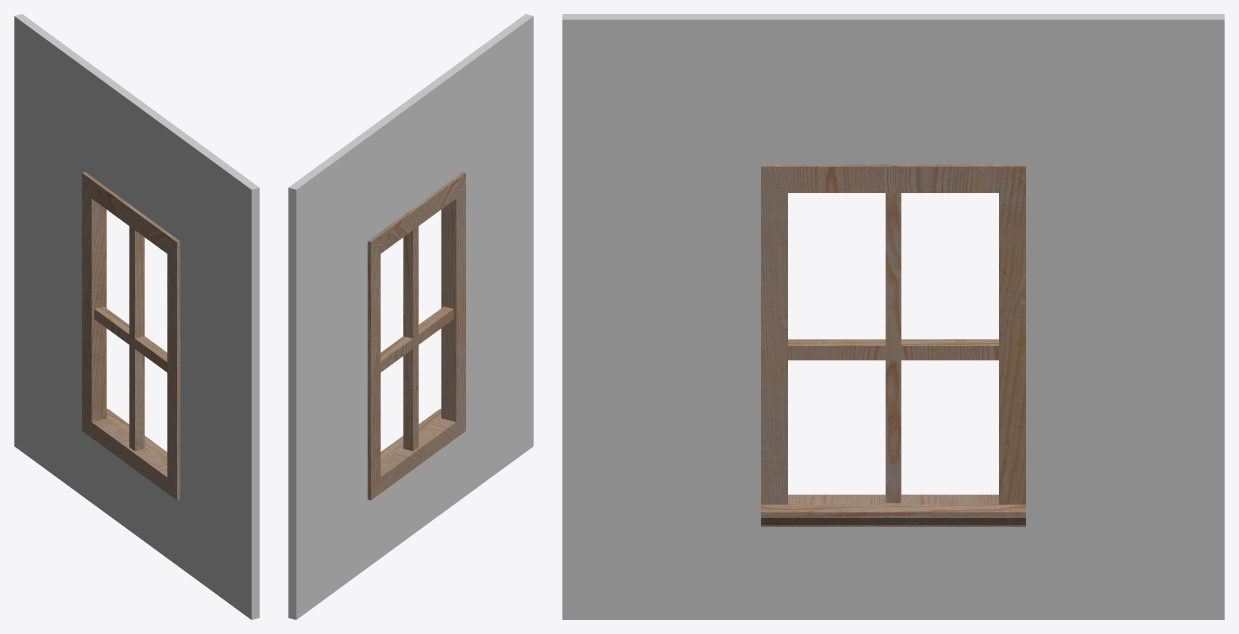
The model's file is WindowWalls.fbx.
The picture shows the model from 3 angles, left to right: view 1: azimuth 30°, elevation 25°; view 2: azimuth 150°, elevation 25°; view 3: azimuth 270°, elevation 25°; orthographic projection. The views are drawn at different scales.
Visible parts, largest first — view 1: WindowWall, Window, Windowpane; view 2: WindowWall, Window, Windowpane; view 3: WindowWall, Window, Windowpane.
Part boxes in pixels (bbox=[...]): WindowWall: bbox=[14, 14, 259, 619]; Window: bbox=[82, 172, 180, 500]; Windowpane: bbox=[94, 226, 167, 450]; WindowWall: bbox=[288, 14, 533, 619]; Window: bbox=[367, 172, 465, 500]; Windowpane: bbox=[380, 226, 453, 450]; WindowWall: bbox=[562, 14, 1224, 619]; Window: bbox=[761, 164, 1025, 526]; Windowpane: bbox=[788, 193, 998, 502].
Size of the model in its own units: 31.53 by 500 by 500.
